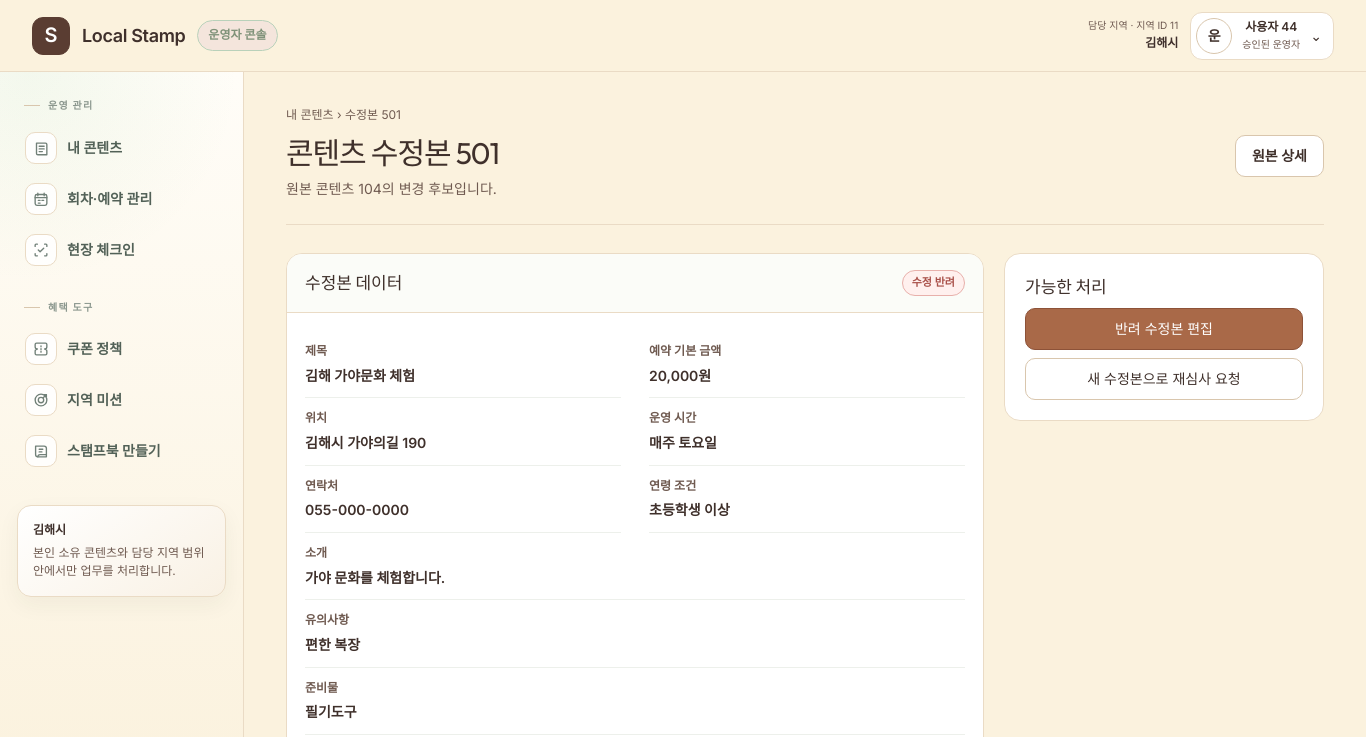
Test: 운영자 콘텐츠 수정본 생성·철회 흐름 › 반려 수정본 데이터를 표시하고 PUT 저장 결과를 반영한다
The width and height of the screenshot is (1366, 737).
Step 1. Click the button "반려 수정본 편집" → x=1164, y=329, box [1025,308,1303,350]
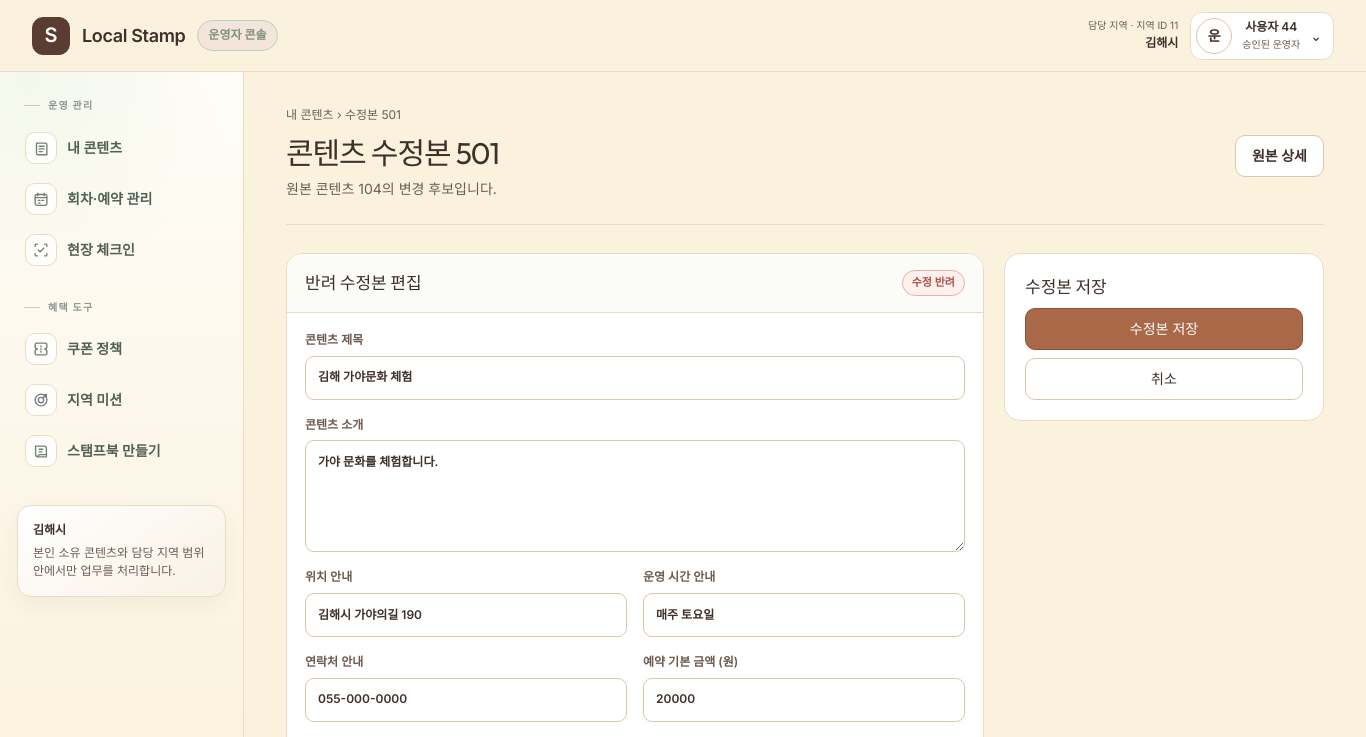
Step 2. Replace the text in the field labelled "콘텐츠 제목" with "수정된 가야문화 체험" → x=635, y=378, box [305,356,965,400]
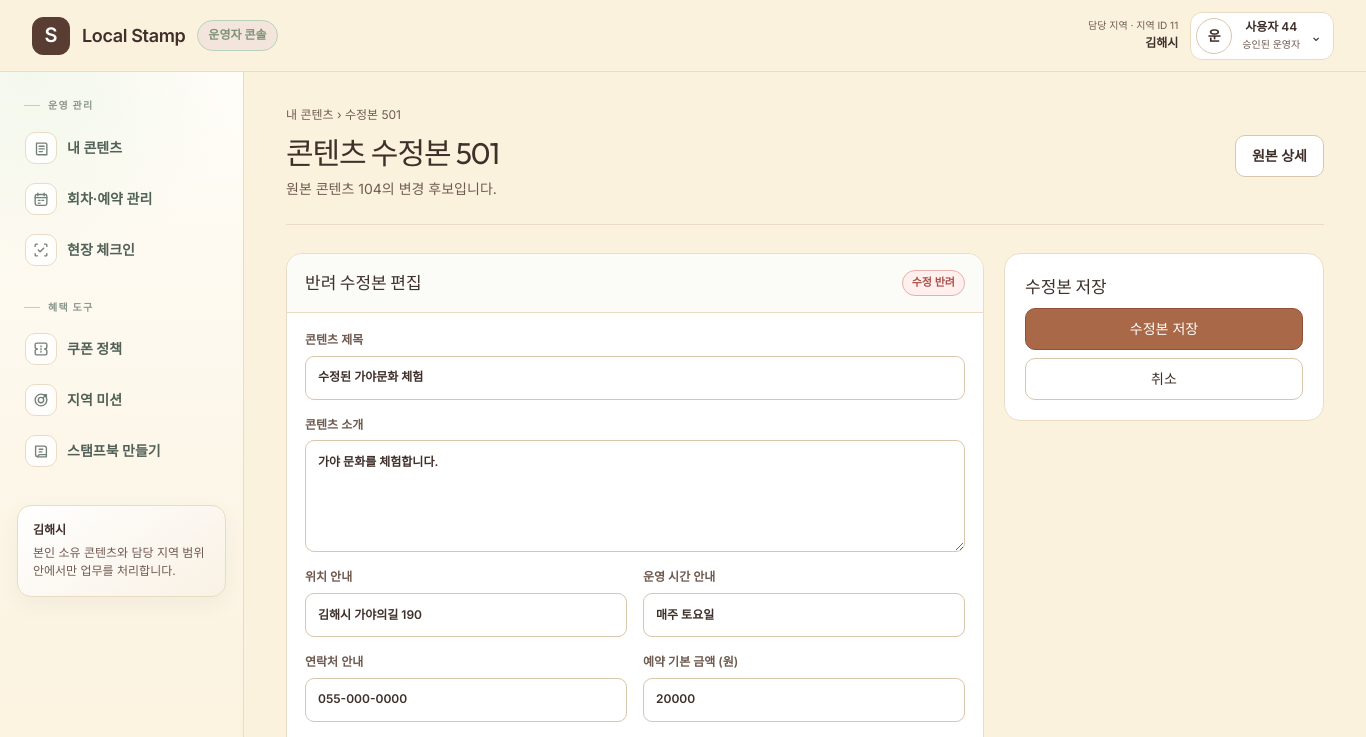
Step 3. Click the button "수정본 저장" → x=1164, y=329, box [1025,308,1303,350]
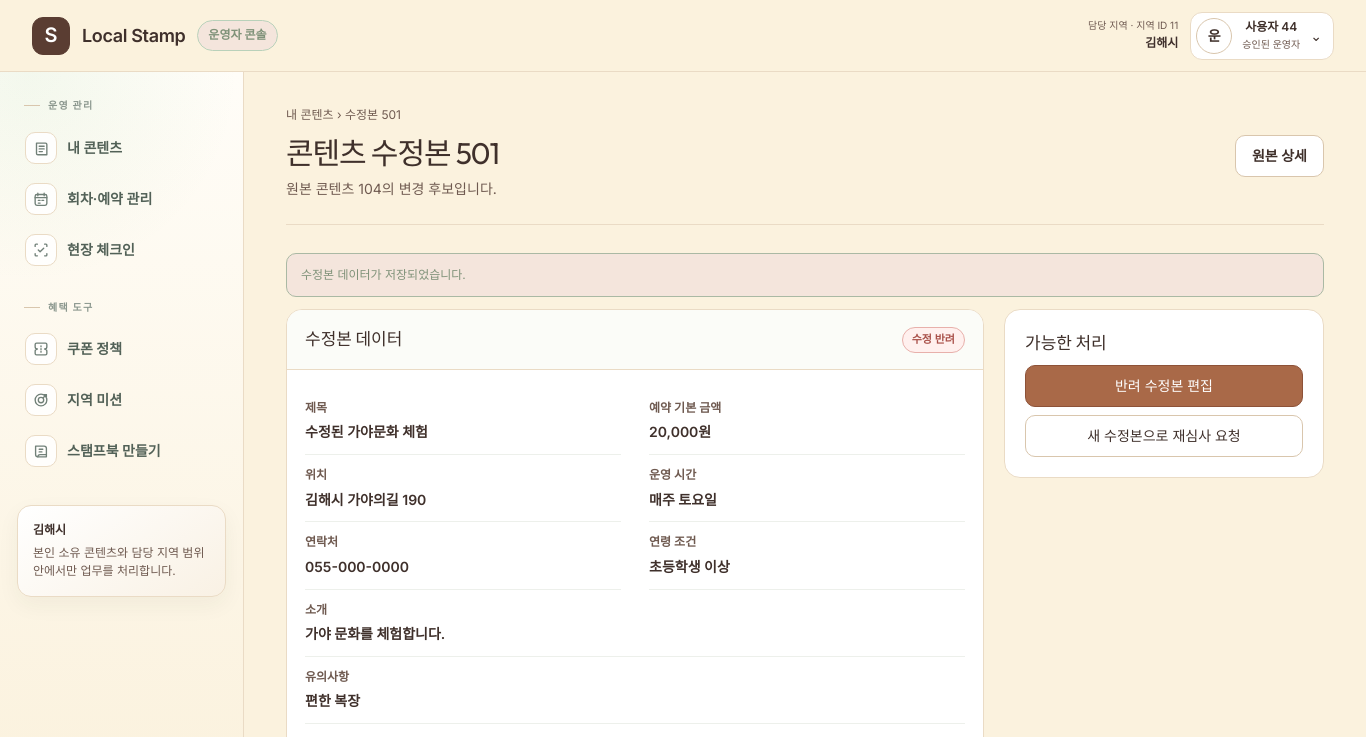
Check: the text "수정본 데이터가 저장되었습니다." is shown, box [286,253,1324,297]
Check: the text "수정된 가야문화 체험" is shown, box [305,423,428,440]
Step 4. Click the button "새 수정본으로 재심사 요청" → x=1164, y=436, box [1025,415,1303,457]
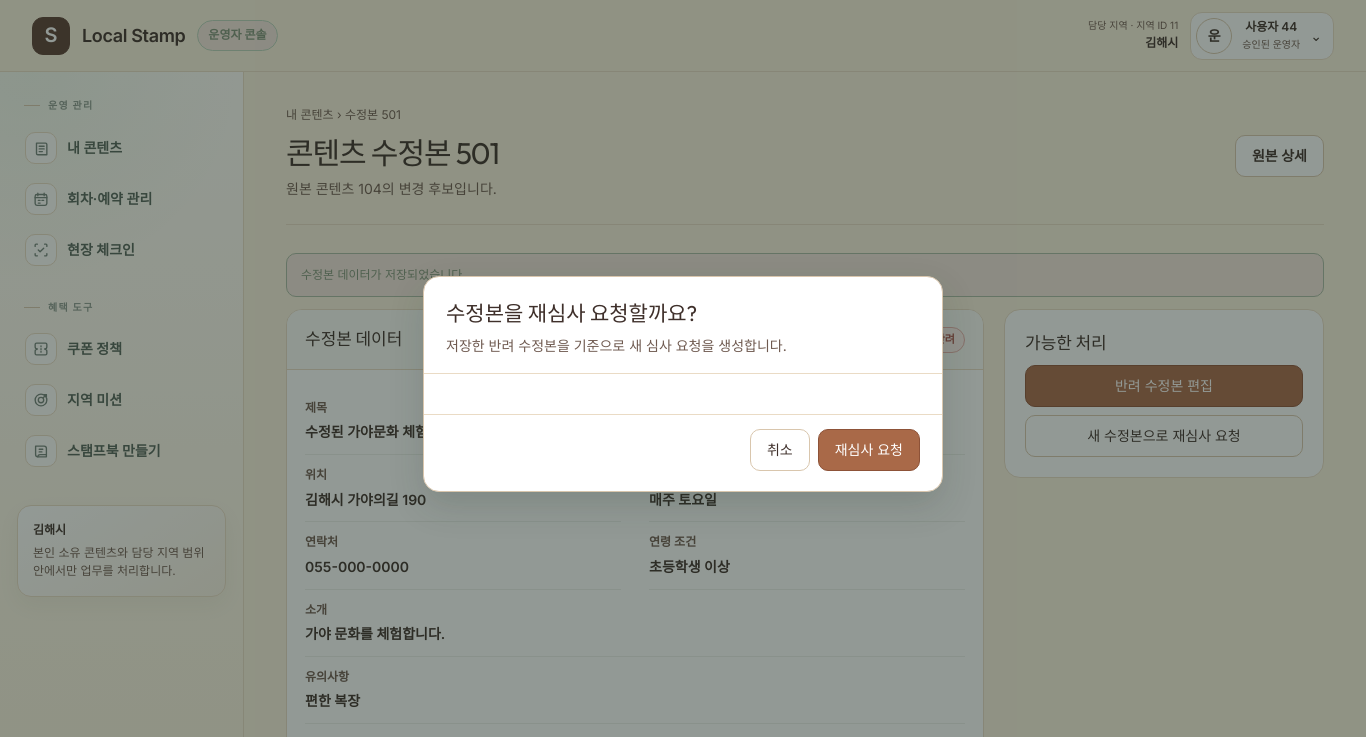
Step 5. Click the button "재심사 요청" → x=869, y=450, box [818,429,920,471]
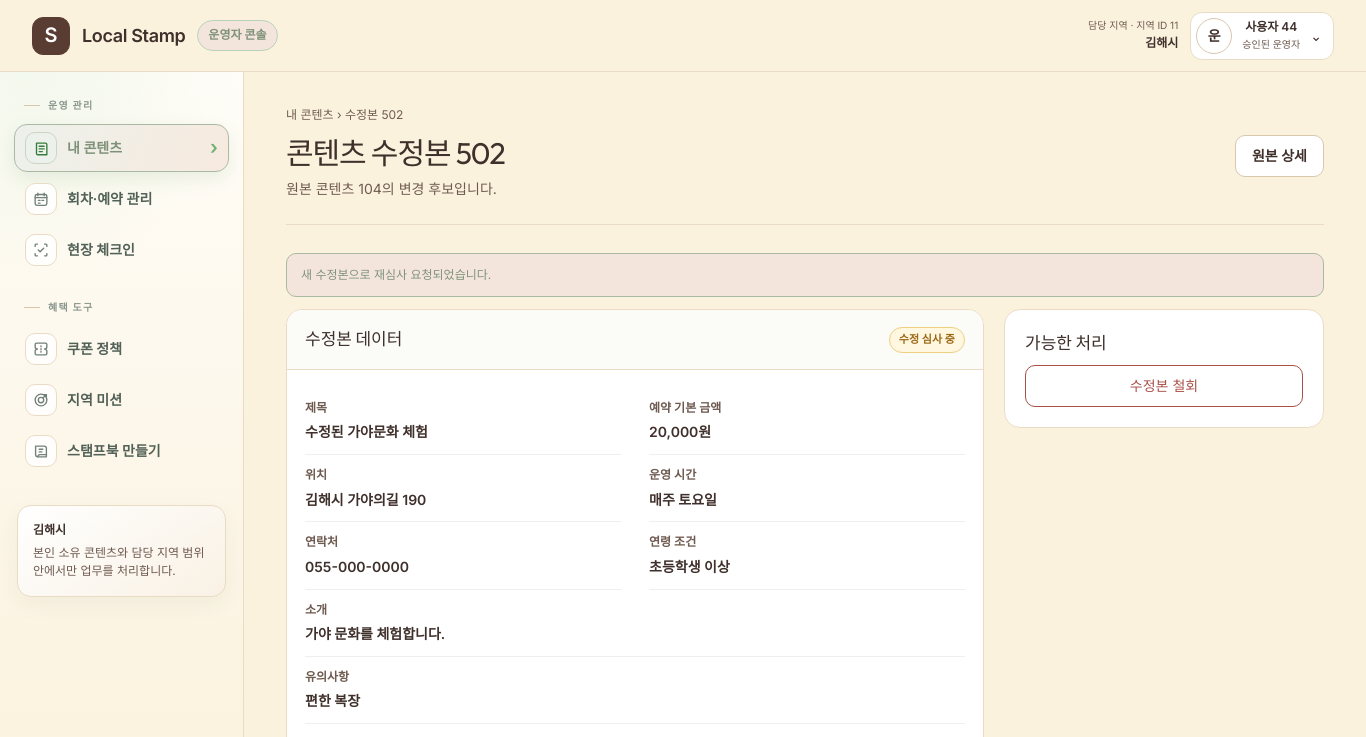
Check: the text "새 수정본으로 재심사 요청되었습니다." is shown, box [286,253,1324,297]
